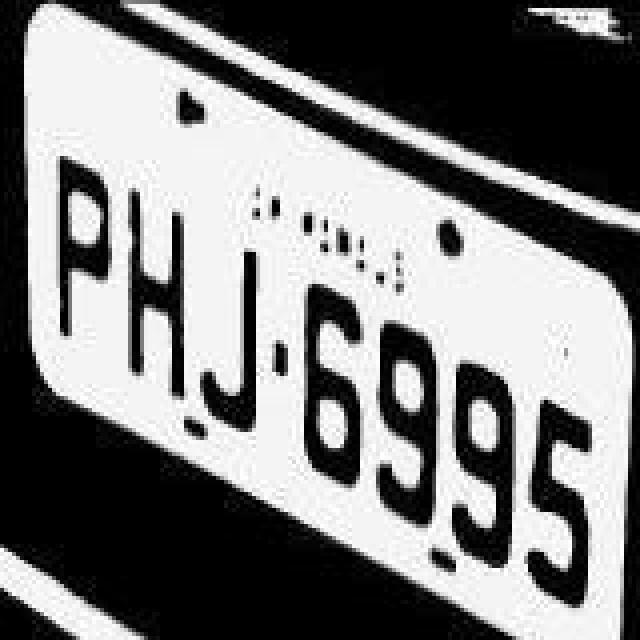5: (520, 396, 600, 608)
6: (294, 276, 370, 492)
9: (370, 312, 446, 528), (448, 358, 520, 566)
H: (118, 182, 194, 398)
J: (192, 234, 272, 434)
P: (50, 150, 118, 354)
